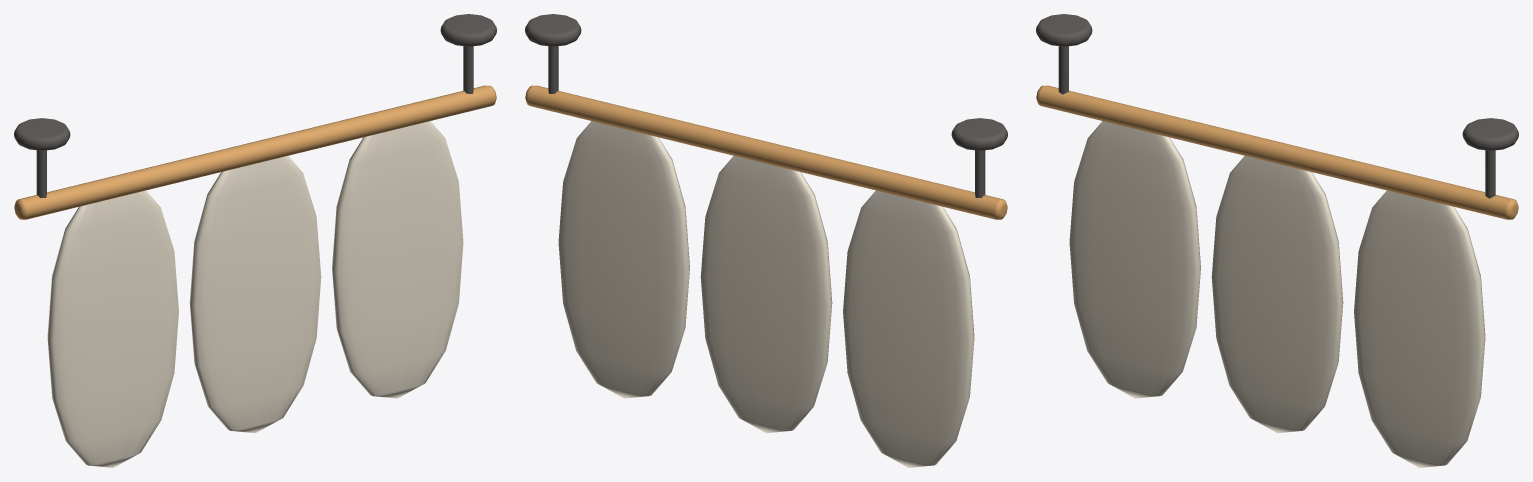
Rendered from split_curtain_wide.glb.
The picture shows the model from 3 angles, left to right: view 1: azimuth 30°, elevation 25°; view 2: azimuth 150°, elevation 25°; view 3: azimuth 330°, elevation 25°; orthographic projection.
Parts seen in each view (by area): view 1: split_curtain_wide_mesh; view 2: split_curtain_wide_mesh; view 3: split_curtain_wide_mesh.
Part boxes in pixels (x1,y1,x2,y2): split_curtain_wide_mesh: (14, 14, 496, 467); split_curtain_wide_mesh: (525, 14, 1007, 467); split_curtain_wide_mesh: (1036, 14, 1518, 467).
Bounding box in the file's own units: 0.78 × 0.56 × 0.08.
